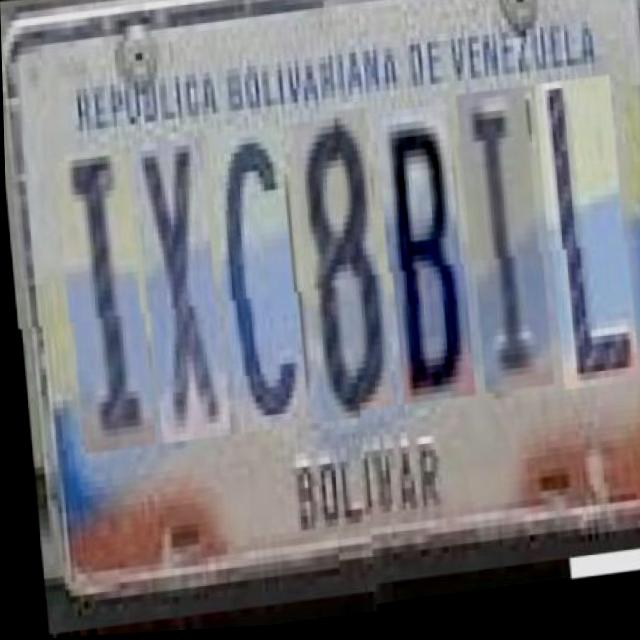8: (294, 123, 387, 431)
b: (376, 122, 469, 423)
c: (209, 133, 302, 441)
i: (55, 149, 148, 457), (458, 107, 546, 415)
l: (535, 98, 632, 414)
x: (133, 141, 223, 448)
